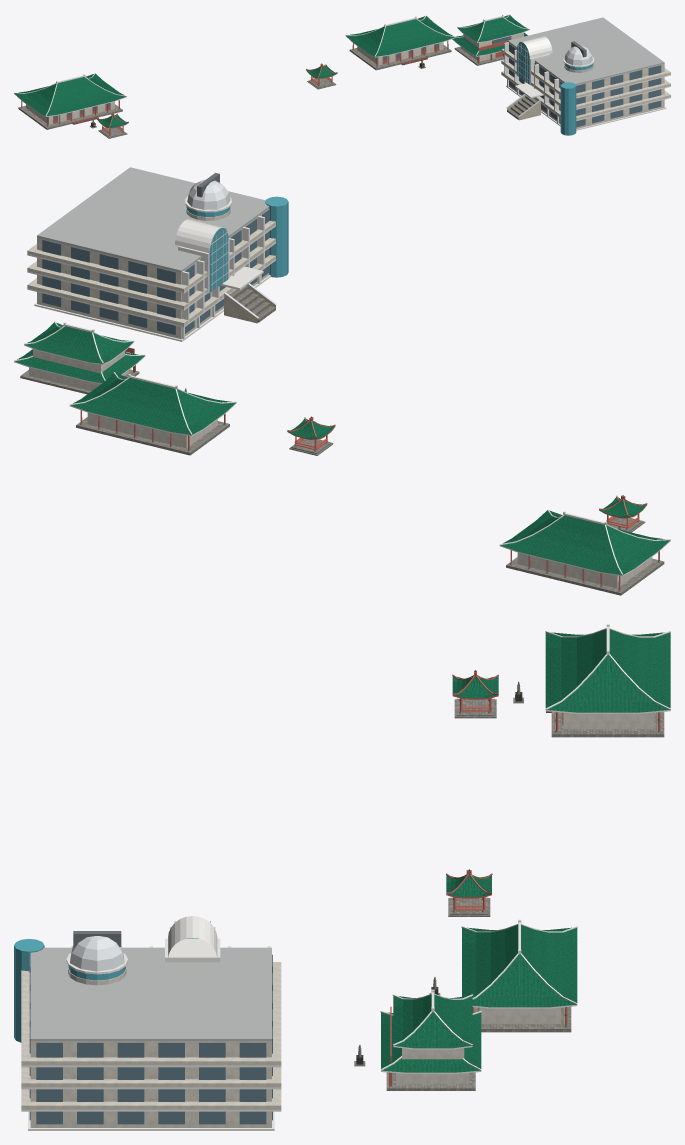
Rendered from d04_heritage_gardens_lod1.glb.
3 renders of one model, top to bottom at view 1: azimuth 30°, elevation 25°; view 2: azimuth 150°, elevation 25°; view 3: azimuth 270°, elevation 25°, orthographic. The views are drawn at different scales.
Visible parts, largest first — view 1: library_observatory_hero.001, fengqitang_heritage_hall.001, yanlintang_heritage_hall.001, xiaoyouhui_alumni_hall.001, fengqiting_pavilion.001, yanlinting_pavilion.001; view 2: library_observatory_hero.001, fengqitang_heritage_hall.001, yanlintang_heritage_hall.001, xiaoyouhui_alumni_hall.001, yanlinting_pavilion.001, fengqiting_pavilion.001; view 3: library_observatory_hero.001, fengqitang_heritage_hall.001, yanlintang_heritage_hall.001, xiaoyouhui_alumni_hall.001, fengqiting_pavilion.001, yanlinting_pavilion.001.
Boxes of the visible parts, left/top/right/bottom form: library_observatory_hero.001: left=501, top=17, right=670, bottom=135; fengqitang_heritage_hall.001: left=14, top=73, right=126, bottom=129; yanlintang_heritage_hall.001: left=345, top=15, right=455, bottom=70; xiaoyouhui_alumni_hall.001: left=452, top=14, right=529, bottom=65; fengqiting_pavilion.001: left=97, top=113, right=128, bottom=138; yanlinting_pavilion.001: left=306, top=63, right=337, bottom=89; library_observatory_hero.001: left=27, top=167, right=288, bottom=341; fengqitang_heritage_hall.001: left=499, top=509, right=670, bottom=595; yanlintang_heritage_hall.001: left=69, top=372, right=236, bottom=455; xiaoyouhui_alumni_hall.001: left=14, top=321, right=145, bottom=394; yanlinting_pavilion.001: left=287, top=416, right=335, bottom=455; fengqiting_pavilion.001: left=599, top=495, right=647, bottom=532; library_observatory_hero.001: left=14, top=916, right=281, bottom=1130; fengqitang_heritage_hall.001: left=513, top=624, right=670, bottom=737; yanlintang_heritage_hall.001: left=429, top=919, right=577, bottom=1032; xiaoyouhui_alumni_hall.001: left=354, top=989, right=481, bottom=1090; fengqiting_pavilion.001: left=452, top=670, right=498, bottom=718; yanlinting_pavilion.001: left=446, top=869, right=492, bottom=916.
Bounding box in the file's own units: 176 × 22.85 × 103.
Materials: 14 (6 with a texture image).
